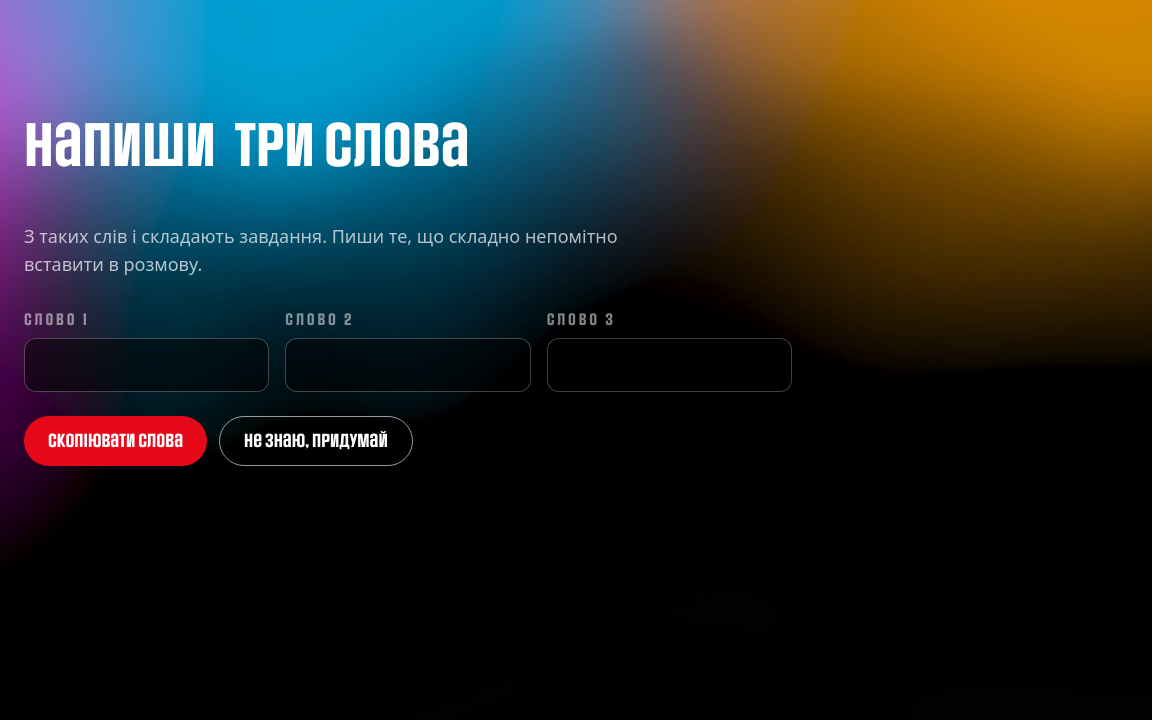
Scenario: WordsForm › показує помилку короткого слова біля поля
The image size is (1152, 720).
Type "я" into the field labelled "Слово 1" at (147, 365), box [24,338,269,392]
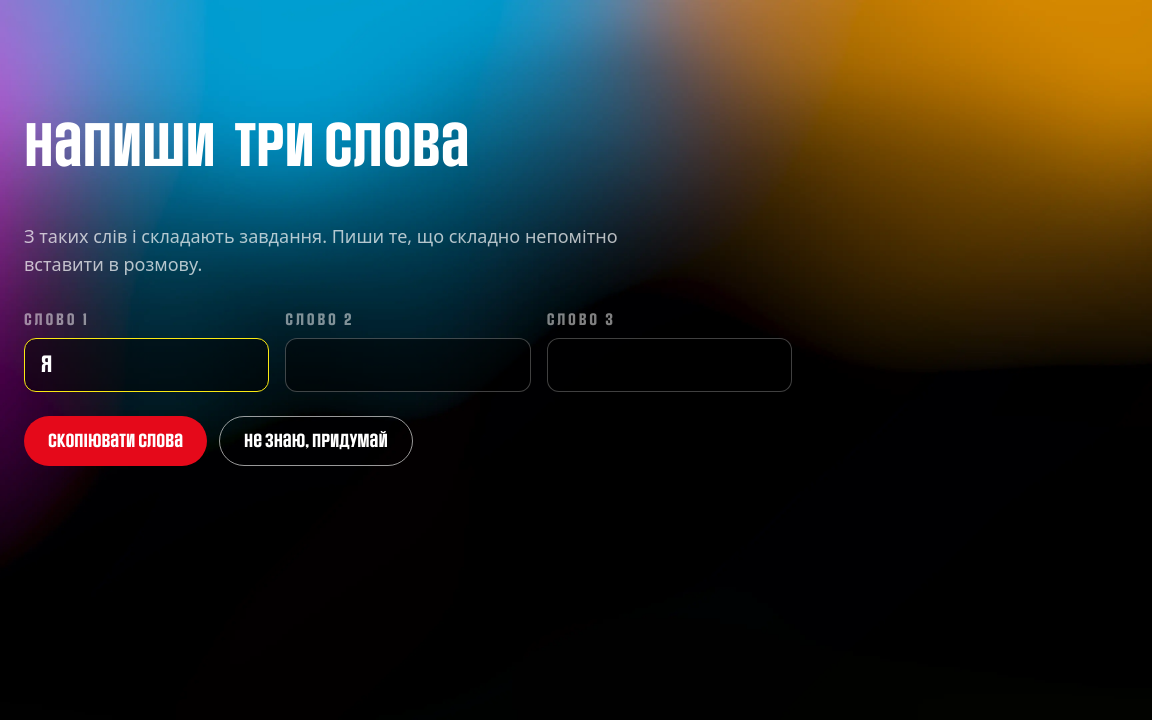
Type "валідол" into the field labelled "Слово 2" at (408, 365), box [285,338,531,392]
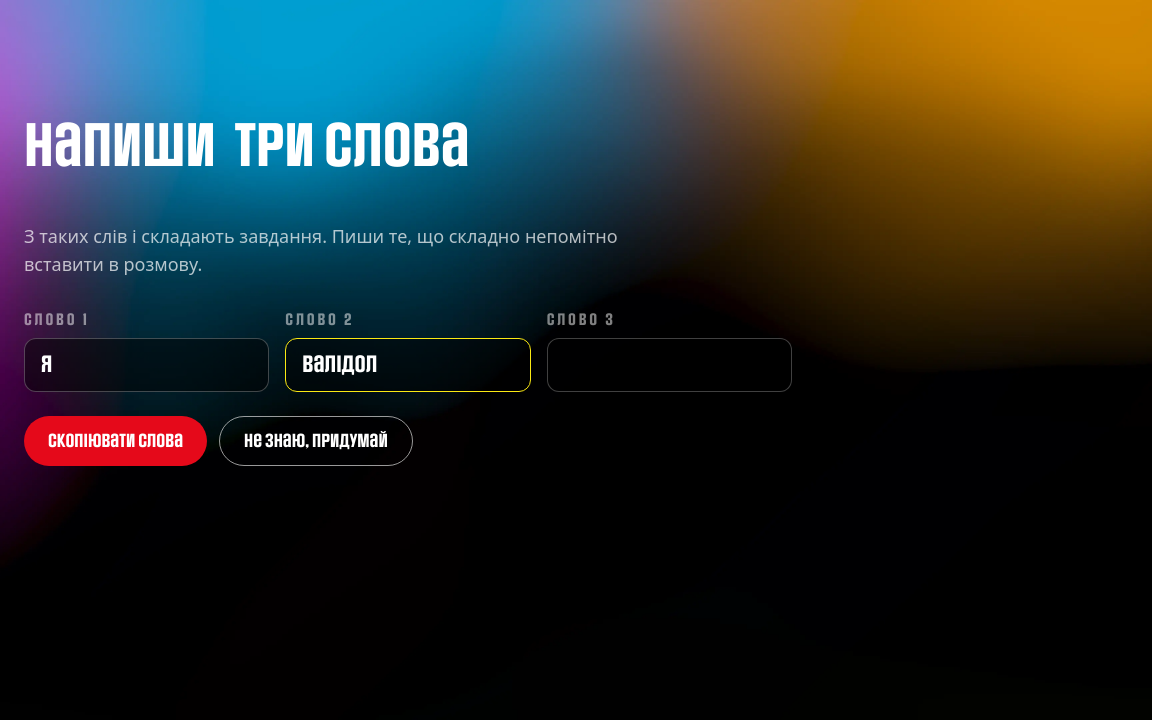
Type "шифер" into the field labelled "Слово 3" at (669, 365), box [547,338,792,392]
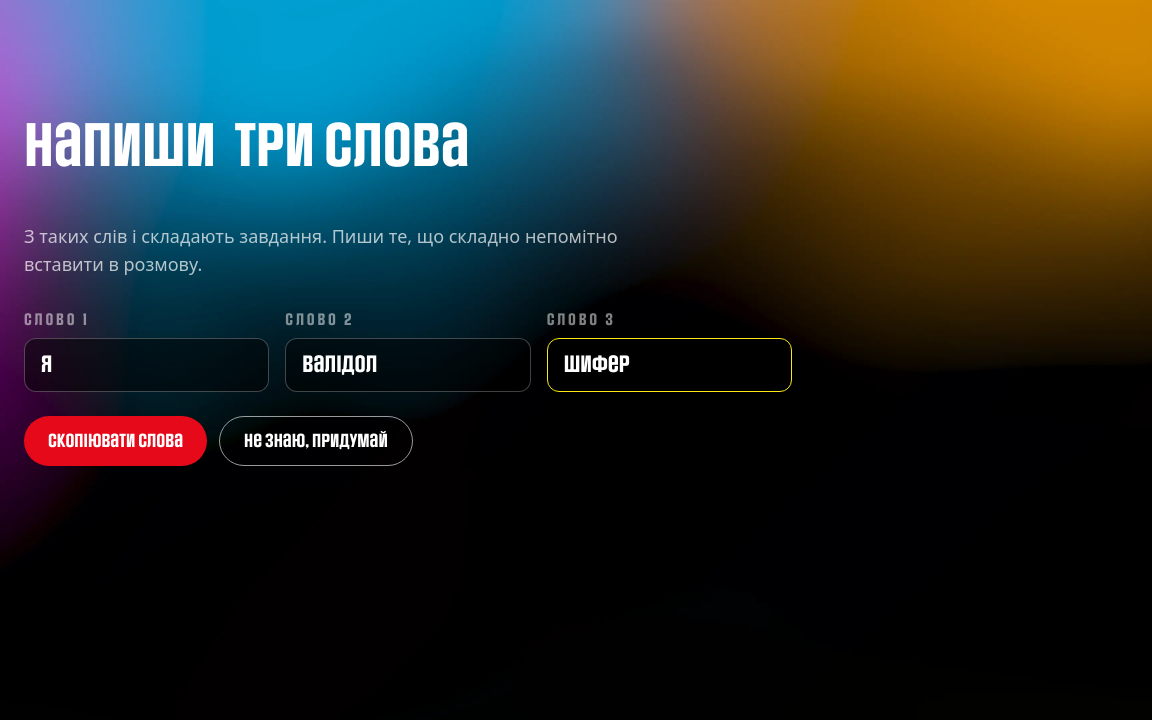
Click the button "Скопіювати слова" at (116, 441), box [24,416,207,466]
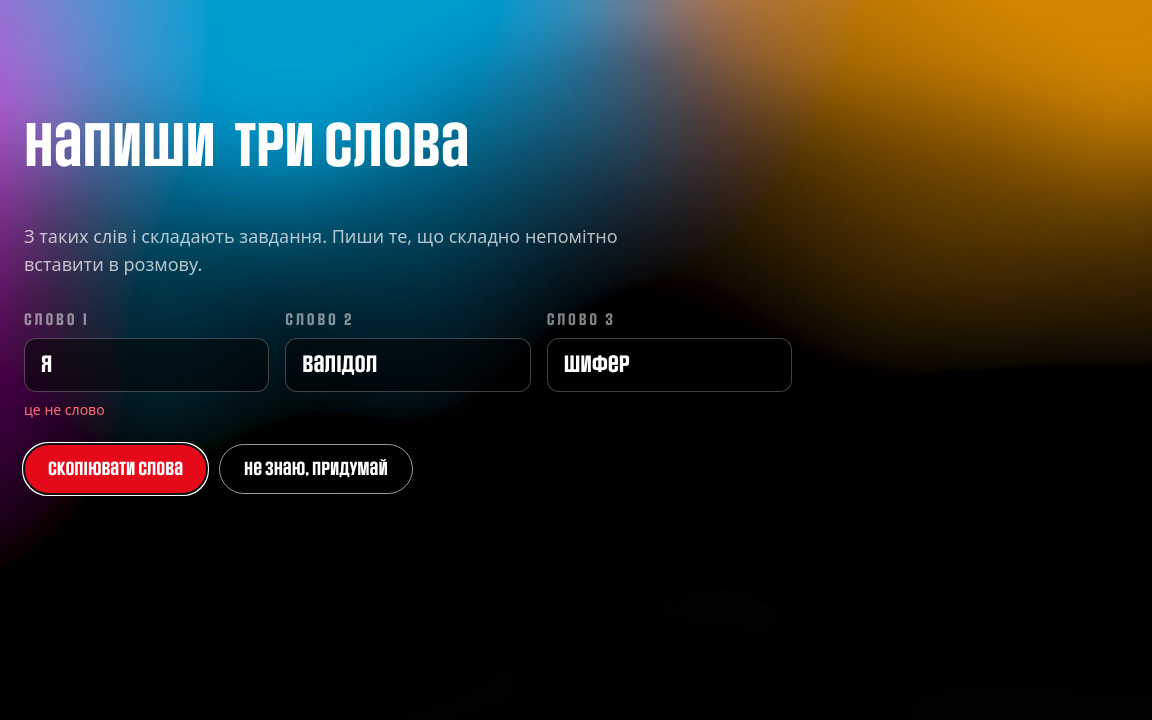
Result: the text "це не слово" is shown at [24,400,105,419]
